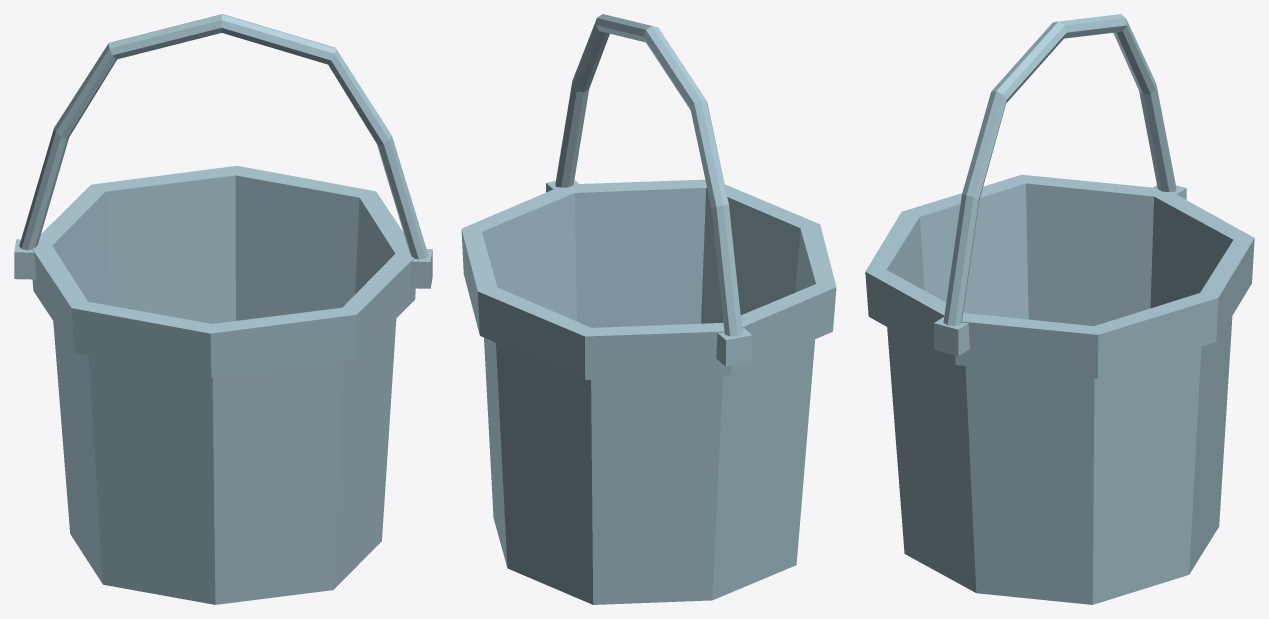
File: Playground_bucket2.fbx
The picture shows the model from 3 angles, left to right: view 1: azimuth 30°, elevation 25°; view 2: azimuth 150°, elevation 25°; view 3: azimuth 270°, elevation 25°; orthographic projection.
Visible parts, largest first — view 1: Playground_bucket2; view 2: Playground_bucket2; view 3: Playground_bucket2.
Boxes of the visible parts, x1,y1,x2,y2 form: Playground_bucket2: [14, 14, 432, 604]; Playground_bucket2: [461, 14, 836, 604]; Playground_bucket2: [865, 14, 1254, 604].
Bounding box in the file's own units: 25.76 × 37.8 × 25.76.
